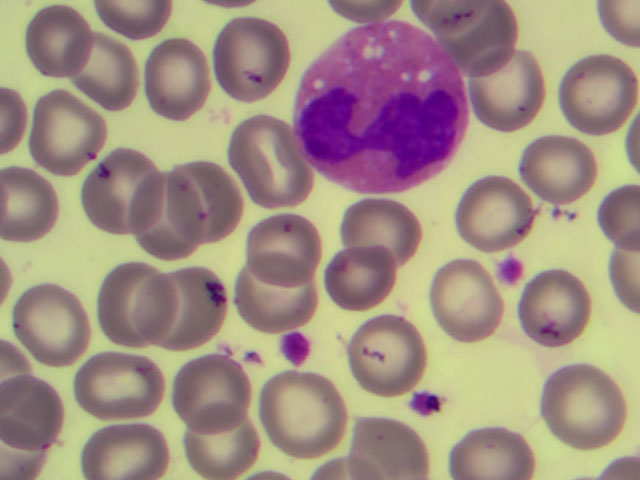Platelets: (282, 333, 309, 365), (409, 391, 440, 415), (503, 256, 523, 283)
RBC: (541, 359, 627, 453), (133, 269, 226, 351), (212, 17, 293, 105), (83, 155, 165, 238), (236, 255, 322, 334), (562, 49, 639, 137), (258, 373, 344, 451), (468, 46, 541, 137), (231, 119, 304, 209), (73, 351, 164, 417), (131, 175, 204, 257), (525, 263, 593, 350), (164, 162, 240, 239), (13, 286, 91, 361), (242, 216, 322, 289), (101, 269, 176, 346), (436, 1, 523, 67), (67, 32, 141, 107), (35, 92, 104, 172), (350, 322, 428, 392), (180, 411, 265, 474), (433, 260, 495, 345), (460, 178, 532, 251), (147, 37, 206, 121), (341, 200, 418, 264), (171, 359, 244, 426), (446, 424, 533, 480), (1, 374, 64, 451), (351, 418, 429, 480), (23, 6, 89, 78), (84, 423, 166, 478), (1, 168, 56, 245), (523, 143, 598, 199), (326, 248, 396, 307), (1, 421, 47, 480), (598, 183, 640, 246), (95, 1, 173, 32), (414, 1, 487, 34), (610, 230, 640, 310), (595, 1, 640, 51), (1, 85, 28, 147), (327, 1, 396, 16)
WBC: (298, 28, 468, 198)
